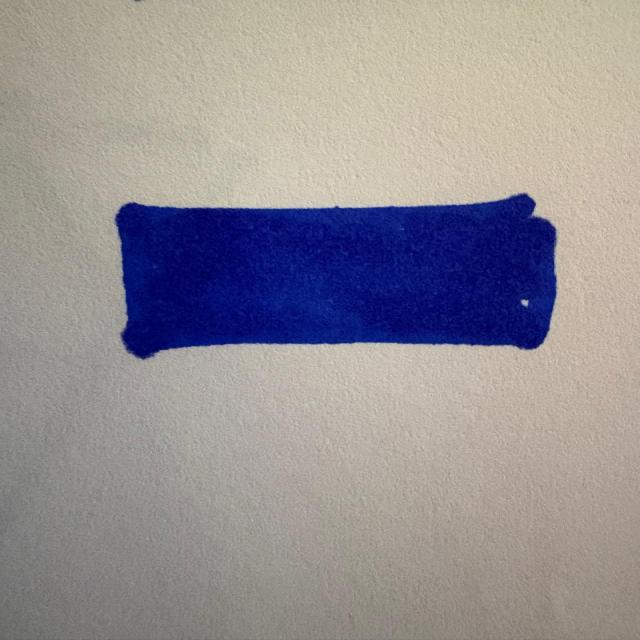Rectangle: (105, 183, 584, 357)
